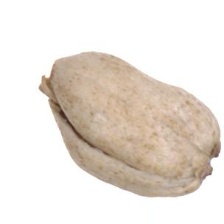L1: (37, 52, 72, 135), (204, 132, 222, 180)
L2: (38, 52, 221, 197)
